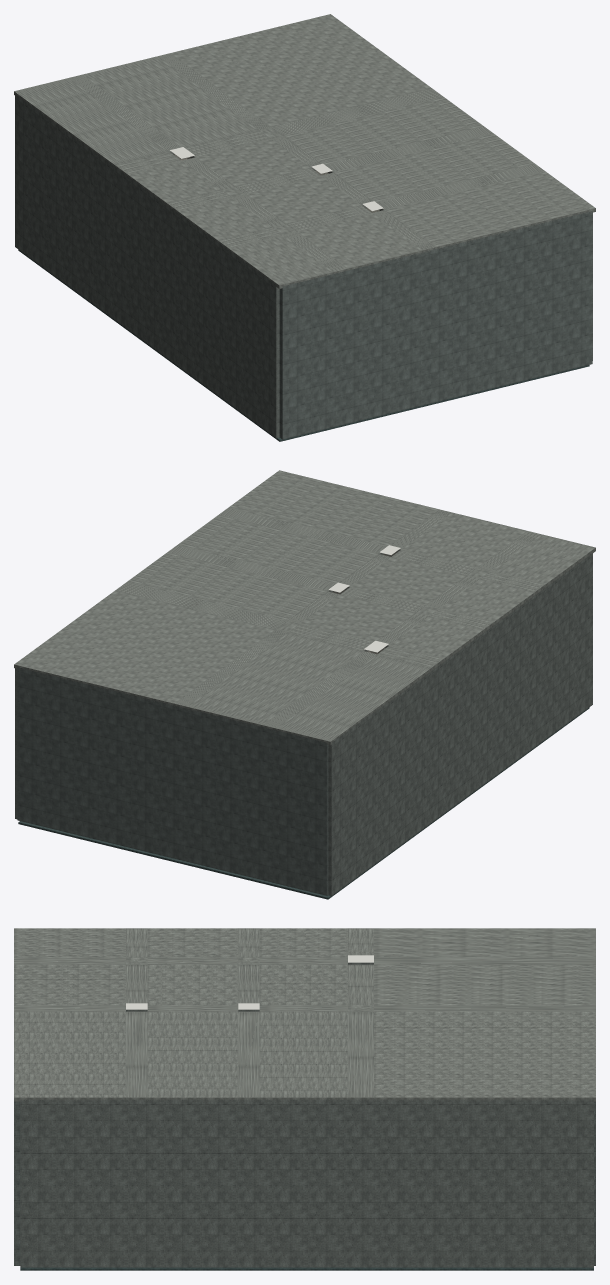
File: reservoir.glb
3 views of the same model, one above another, from view 1: azimuth 30°, elevation 25°; view 2: azimuth 150°, elevation 25°; view 3: azimuth 270°, elevation 25° (orthographic). The views are drawn at different scales.
Visible parts, largest first — view 1: HallShell; view 2: HallShell; view 3: HallShell, CeilingDaylight.
Part boxes in pixels (x1=…): HallShell: x1=14, y1=14, x2=595, y2=441; HallShell: x1=14, y1=470, x2=595, y2=899; HallShell: x1=14, y1=928, x2=595, y2=1270; CeilingDaylight: x1=126, y1=955, x2=373, y2=1009.
Bounding box in the file's own units: 186 × 90.53 × 270.
Materials: 8 (2 with a texture image).
